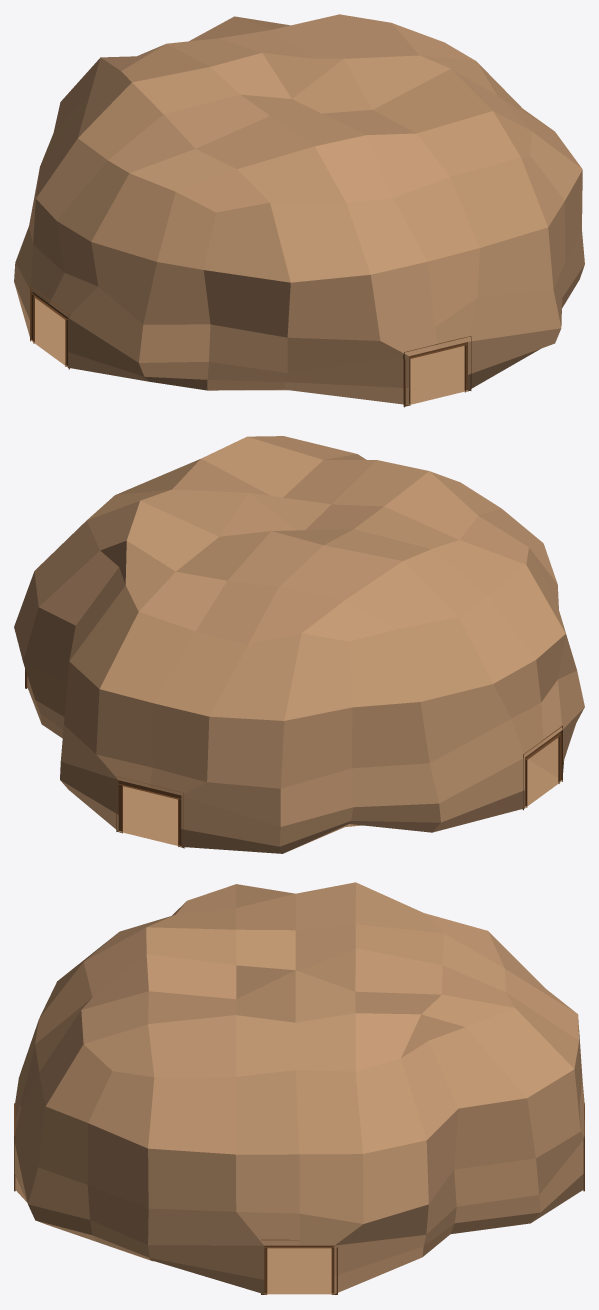
The model's file is SM_Largecave1.fbx.
3 renders of one model, top to bottom at view 1: azimuth 30°, elevation 25°; view 2: azimuth 150°, elevation 25°; view 3: azimuth 270°, elevation 25°, orthographic.
Visible parts, largest first — view 1: Large Room.001, Large Room.002, Large Room.003, Support -y.002, Support -x.002; view 2: Large Room.001, Large Room.002, Large Room.003, Support y.002, Support -x.002; view 3: Large Room.001, Large Room.002, Large Room.003, Support x.002.
Boxes of the visible parts, <box> form: Large Room.001: <box>14,57,584,404</box>; Large Room.002: <box>78,14,531,212</box>; Large Room.003: <box>30,298,467,404</box>; Support -y.002: <box>403,336,471,407</box>; Support -x.002: <box>30,286,69,369</box>; Large Room.001: <box>14,509,584,853</box>; Large Room.002: <box>86,436,528,644</box>; Large Room.003: <box>118,738,562,850</box>; Support y.002: <box>116,776,184,848</box>; Support -x.002: <box>522,725,562,810</box>; Large Room.001: <box>14,931,584,1293</box>; Large Room.002: <box>81,882,514,1077</box>; Large Room.003: <box>117,1248,333,1294</box>; Support x.002: <box>261,1239,337,1294</box>.
Bounding box in the file's own units: 3000 × 1318 × 3000.
